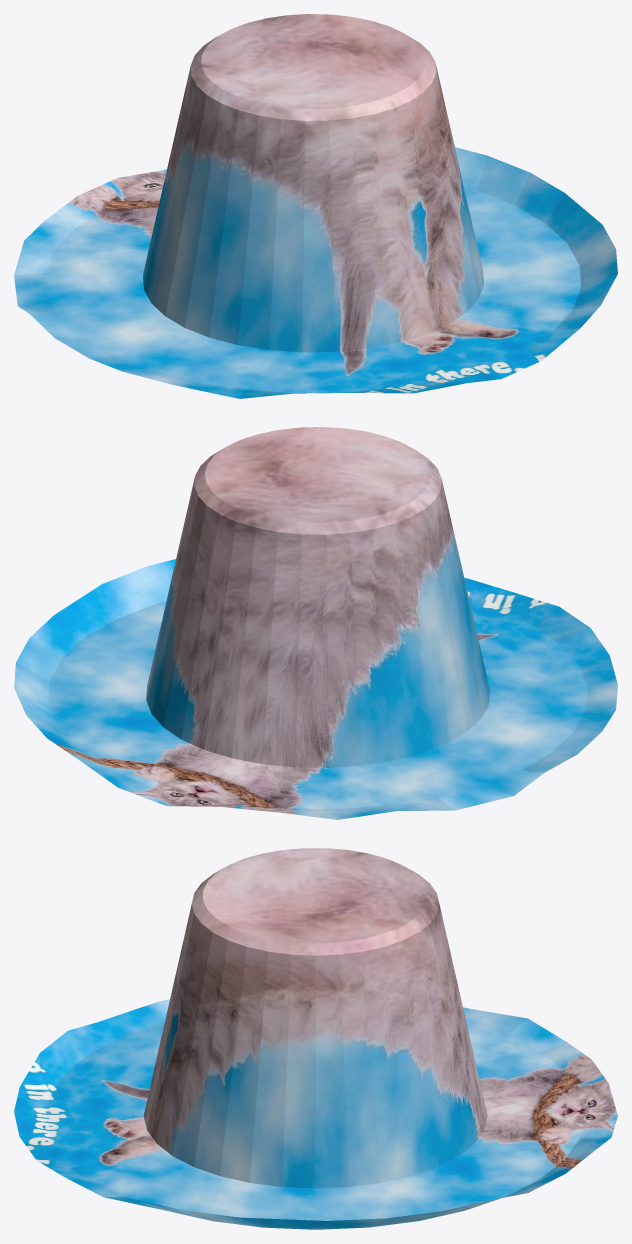
File: Hat.fbx
3 views of the same model, one above another, from view 1: azimuth 30°, elevation 25°; view 2: azimuth 150°, elevation 25°; view 3: azimuth 270°, elevation 25° (orthographic).
Parts seen in each view (by area): view 1: Circle; view 2: Circle; view 3: Circle.
Part boxes in pixels (left/top/right/bottom): Circle: left=14, top=14, right=617, bottom=398; Circle: left=14, top=427, right=617, bottom=819; Circle: left=14, top=848, right=617, bottom=1229.
Size of the model in its own units: 348 by 143 by 351.
